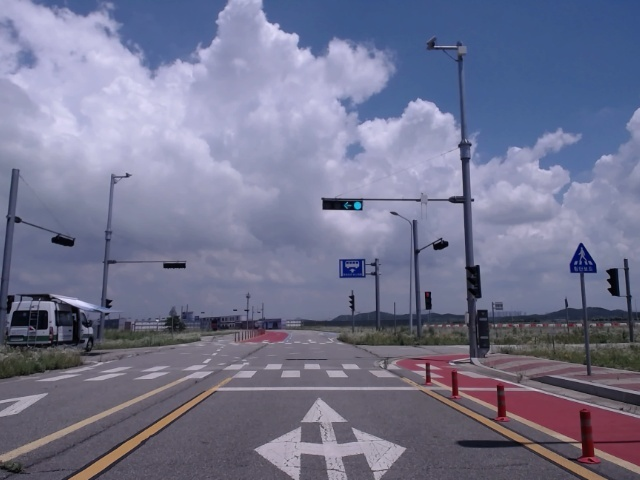all_green_4: (324, 197, 361, 212)
